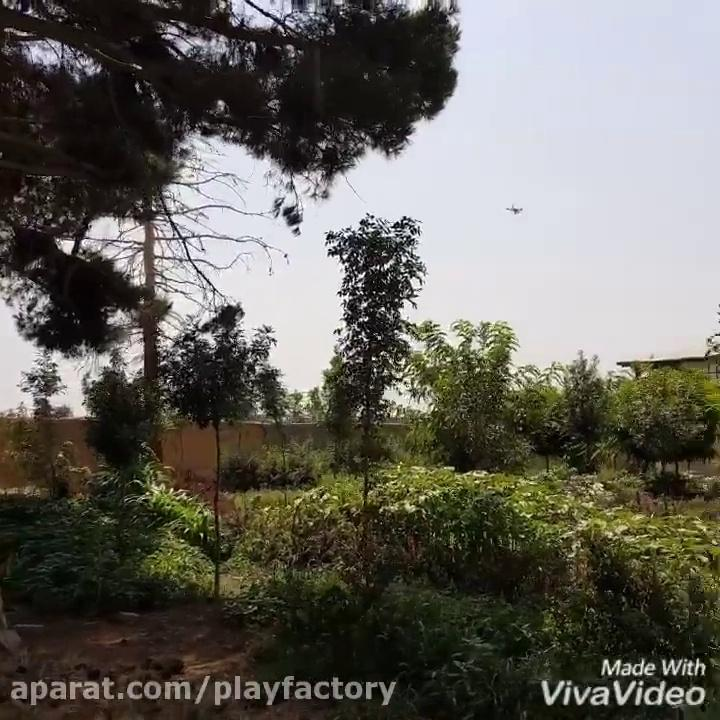drone: (503, 198, 527, 217)
